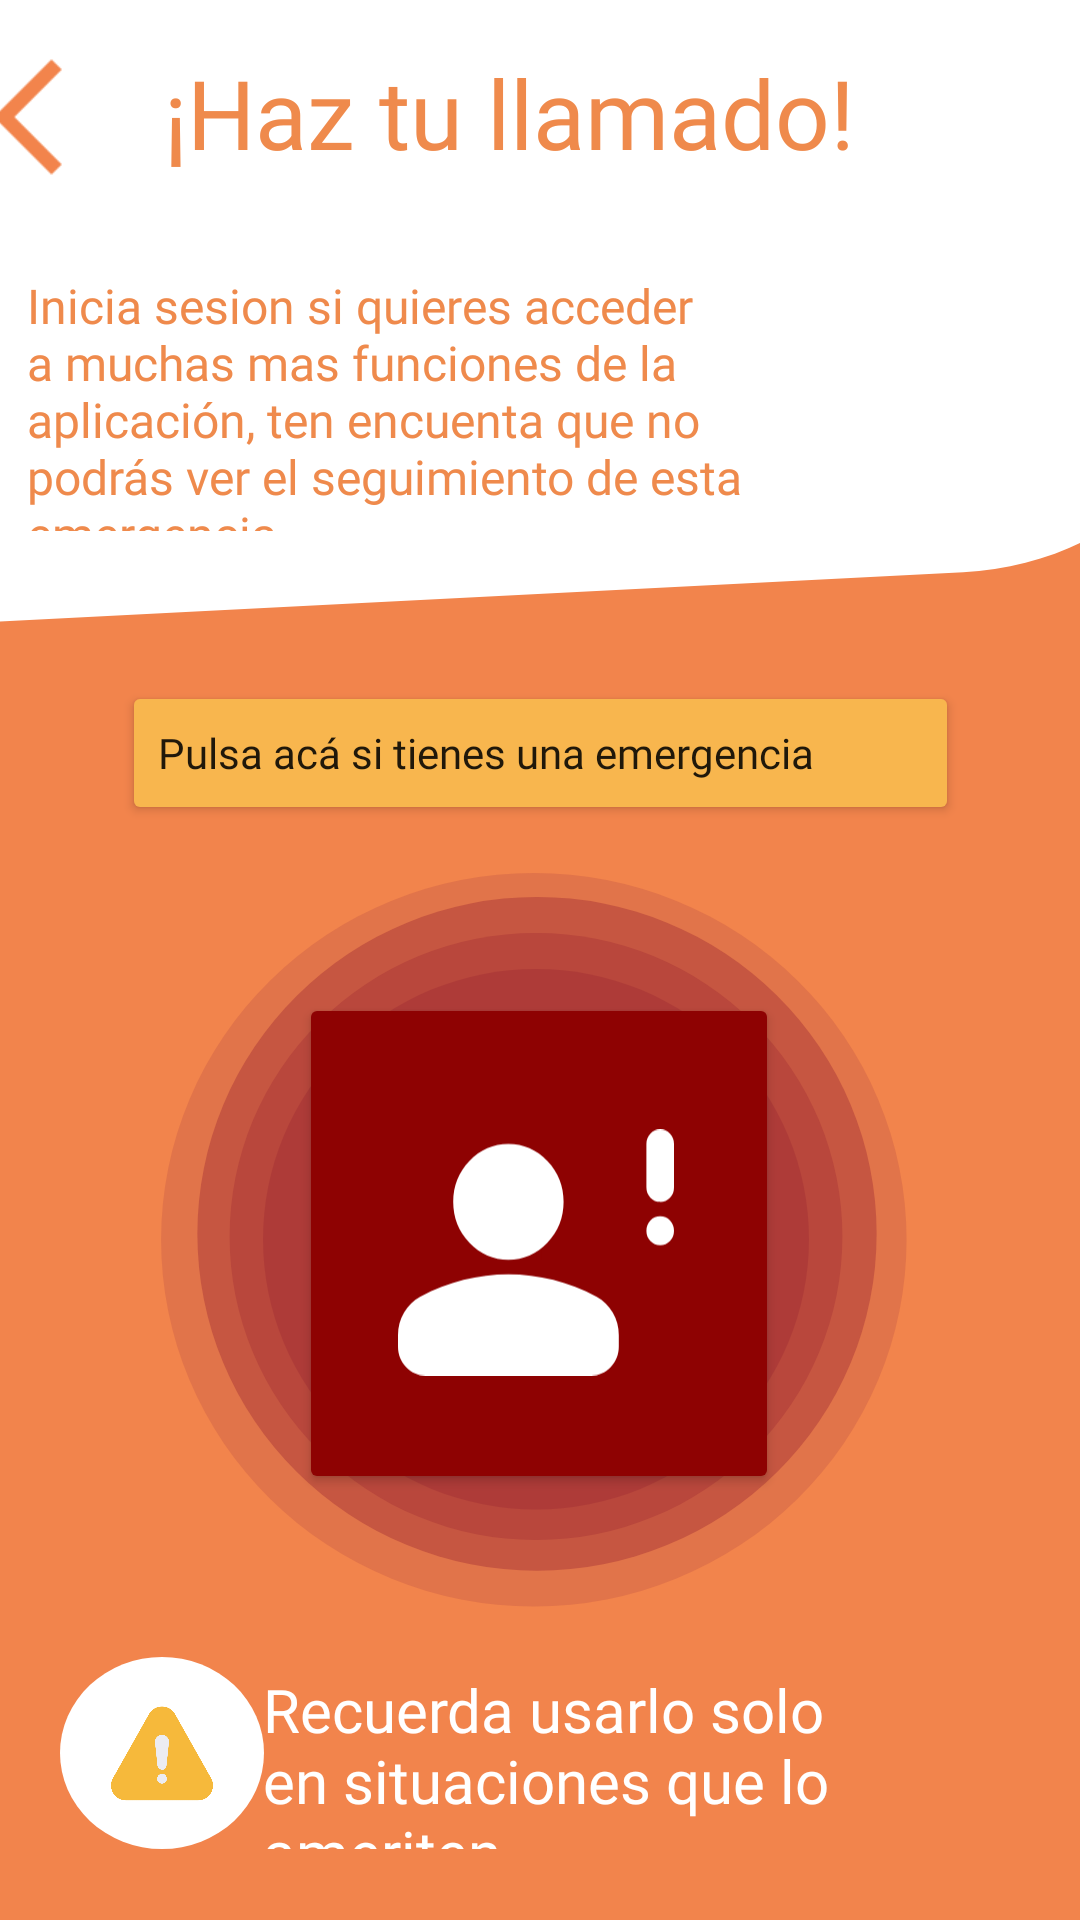

Where icons sit on this 1080×1920 app screen, as (x1, y1, x2, y2):
backnaranja: (0, 59, 62, 175)
